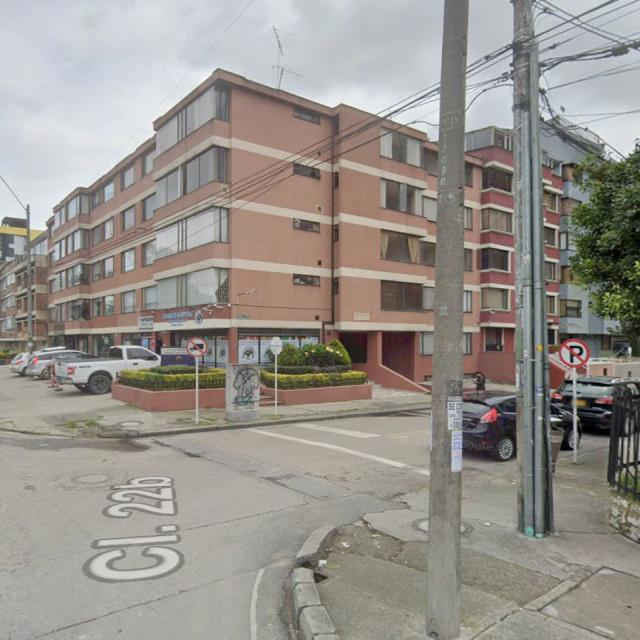fachada: (47, 70, 437, 388), (541, 118, 627, 356), (467, 127, 515, 379), (31, 232, 48, 348), (0, 217, 26, 262)
poste: (426, 0, 468, 639), (513, 0, 534, 535), (530, 38, 550, 536), (26, 204, 33, 356), (573, 369, 577, 463), (196, 357, 199, 424), (275, 354, 277, 415)
